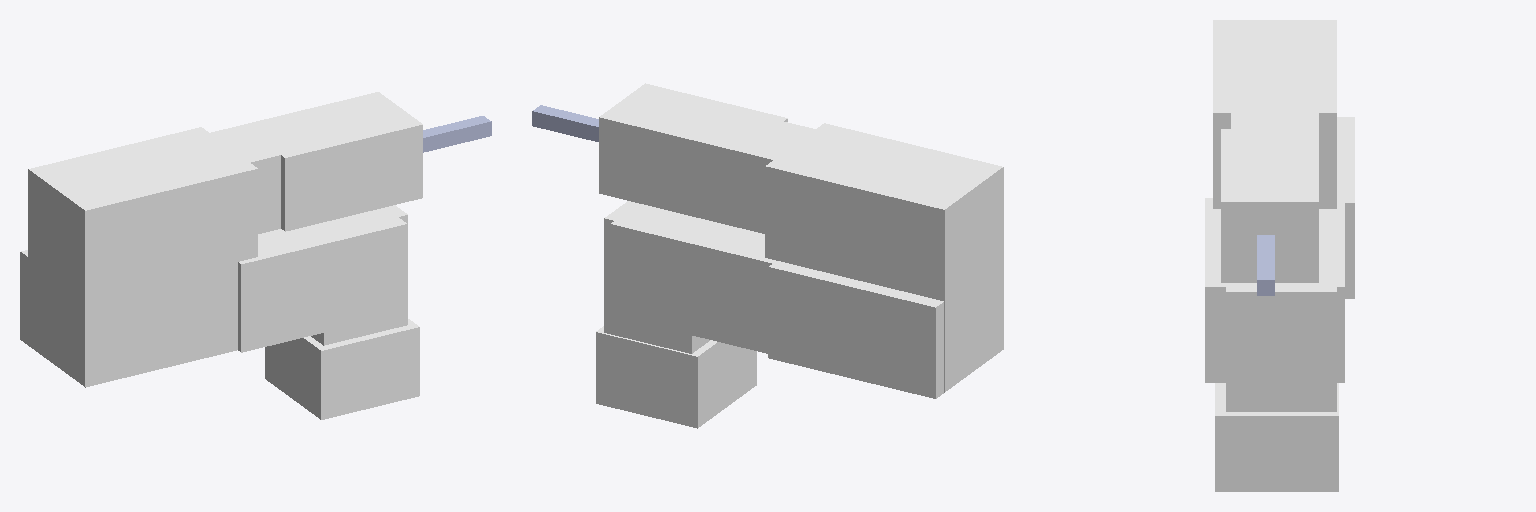
The robot description file, URDF, robot "robot":
<?xml version="1.0" encoding="utf-8"?>
<!-- Joint kinematics and inertials retained; box visuals and convex collision proxies. -->
<robot name="robot">
  <link name="base_link">
    <inertial>
      <origin xyz="0.029953 0.029941 0.02952" rpy="0 0 0" />
      <mass value="0.081607" />
      <inertia ixx="2.1252E-05" ixy="3.7796E-08" ixz="-5.6793E-09" iyy="2.1283E-05" iyz="-5.6183E-09" izz="3.2991E-05" />
    </inertial>
    <visual>
      <origin xyz="0.03 0.03 0.0235" rpy="0 0 0" />
      <geometry>
        <box size="0.07 0.07 0.047" />
      </geometry>
      <material name="">
        <color rgba="1 1 1 1" />
      </material>
    </visual>
    <collision>
      <origin xyz="0.03 0.03 0.0235" rpy="0 0 0" />
      <geometry>
        <mesh filename="./convex/base_link.obj" />
      </geometry>
    </collision>
  </link>
  <link name="Link_1">
    <inertial>
      <origin xyz="-2.9033E-06 -0.00059967 0.03596" rpy="0 0 0" />
      <mass value="0.17103" />
      <inertia ixx="7.1554E-05" ixy="8.9982E-09" ixz="-1.2326E-08" iyy="8.2574E-05" iyz="-6.5424E-06" izz="7.1072E-05" />
    </inertial>
    <visual>
      <origin xyz="0 0.002225 0.035" rpy="0 0 0" />
      <geometry>
        <box size="0.06 0.06255 0.079" />
      </geometry>
      <material name="">
        <color rgba="1 1 1 1" />
      </material>
    </visual>
    <collision>
      <origin xyz="0 0.002225 0.035" rpy="0 0 0" />
      <geometry>
        <mesh filename="./convex/Link_1.obj" />
      </geometry>
    </collision>
  </link>
  <joint name="Joint_01" type="revolute">
    <origin xyz="0.03 0.03 0.0475" rpy="0 0 0" />
    <parent link="base_link" />
    <child link="Link_1" />
    <axis xyz="0 0 -1" />
    <limit lower="-1.57" upper="1.57" effort="10" velocity="10" />
  </joint>
  <link name="Link_2">
    <inertial>
      <origin xyz="-0.058145 0.02764 1.5343E-05" rpy="0 0 0" />
      <mass value="0.19398" />
      <inertia ixx="9.8528E-05" ixy="2.3122E-05" ixz="-9.4261E-07" iyy="0.00015787" iyz="-2.3582E-08" izz="0.00016208" />
    </inertial>
    <visual>
      <origin xyz="-0.036 0.029525 0" rpy="0 0 0" />
      <geometry>
        <box size="0.118 0.07905 0.06" />
      </geometry>
      <material name="">
        <color rgba="1 1 1 1" />
      </material>
    </visual>
    <collision>
      <origin xyz="-0.036 0.029525 0" rpy="0 0 0" />
      <geometry>
        <mesh filename="./convex/Link_2.obj" />
      </geometry>
    </collision>
  </link>
  <joint name="Joint_12" type="revolute">
    <origin xyz="0 -0.03055 0.0445" rpy="0 0 0" />
    <parent link="Link_1" />
    <child link="Link_2" />
    <axis xyz="0 1 0" />
    <limit lower="0" upper="3.1416" effort="10" velocity="10" />
  </joint>
  <link name="Link_3">
    <inertial>
      <origin xyz="-0.060244 0.0078654 -1.8538E-05" rpy="0 0 0" />
      <mass value="0.18531" />
      <inertia ixx="9.1277E-05" ixy="2.8284E-05" ixz="-3.9324E-07" iyy="0.00014778" iyz="9.8189E-09" izz="0.00014721" />
    </inertial>
    <visual>
      <origin xyz="-0.05241783 0.005000001 0" rpy="0 0 0" />
      <geometry>
        <box size="0.1148357 0.08 0.06" />
      </geometry>
      <material name="">
        <color rgba="1 1 1 1" />
      </material>
    </visual>
    <collision>
      <origin xyz="-0.05241783 0.005000001 0" rpy="0 0 0" />
      <geometry>
        <mesh filename="./convex/Link_3.obj" />
      </geometry>
    </collision>
  </link>
  <joint name="Joint_23" type="revolute">
    <origin xyz="-0.0935 0.02925 0" rpy="0 0 0" />
    <parent link="Link_2" />
    <child link="Link_3" />
    <axis xyz="1 0 0" />
    <limit lower="-1.5708" upper="1.5708" effort="10" velocity="10" />
  </joint>
  <link name="Link_4">
    <inertial>
      <origin xyz="0.021744 0.021299 0.051227" rpy="0 0 0" />
      <mass value="0.19649" />
      <inertia ixx="0.00014293" ixy="6.6368E-06" ixz="2.1799E-05" iyy="0.00016548" iyz="-2.609E-05" izz="0.00012537" />
    </inertial>
    <visual>
      <origin xyz="0.03145 0.0255 0.03008217" rpy="0 0 0" />
      <geometry>
        <box size="0.1229 0.07 0.1198357" />
      </geometry>
      <material name="">
        <color rgba="1 1 1 1" />
      </material>
    </visual>
    <collision>
      <origin xyz="0.03145 0.0255 0.03008217" rpy="0 0 0" />
      <geometry>
        <mesh filename="./convex/Link_4.obj" />
      </geometry>
    </collision>
  </link>
  <joint name="Joint_34" type="revolute">
    <origin xyz="-0.08 -0.02555 0" rpy="0 0 0" />
    <parent link="Link_3" />
    <child link="Link_4" />
    <axis xyz="0 1 0" />
    <limit lower="-3.1416" upper="0" effort="10" velocity="10" />
  </joint>
  <link name="Link_5">
    <inertial>
      <origin xyz="0.036396 -0.0040005 -4.1957E-05" rpy="0 0 0" />
      <mass value="0.088959" />
      <inertia ixx="2.3848E-05" ixy="5.3529E-06" ixz="-3.7798E-08" iyy="3.6158E-05" iyz="-5.6005E-09" izz="3.1923E-05" />
    </inertial>
    <visual>
      <origin xyz="0.03494668 0 0" rpy="0 0 0" />
      <geometry>
        <box size="0.06989335 0.05 0.05" />
      </geometry>
      <material name="">
        <color rgba="1 1 1 1" />
      </material>
    </visual>
    <collision>
      <origin xyz="0.03494668 0 0" rpy="0 0 0" />
      <geometry>
        <mesh filename="./convex/Link_5.obj" />
      </geometry>
    </collision>
  </link>
  <joint name="Joint_45" type="revolute">
    <origin xyz="0.0929 0.0255 0.065" rpy="0 0 0" />
    <parent link="Link_4" />
    <child link="Link_5" />
    <axis xyz="1 0 0" />
    <limit lower="-3.1416" upper="3.1416" effort="10" velocity="10" />
  </joint>
  <link name="Link_6">
    <inertial>
      <origin xyz="0.048768 -0.017783 -4.337E-05" rpy="0 0 0" />
      <mass value="0.086021" />
      <inertia ixx="2.8231E-05" ixy="7.1812E-06" ixz="-5.652E-09" iyy="4.5297E-05" iyz="3.7802E-08" izz="4.5564E-05" />
    </inertial>
    <visual>
      <origin xyz="0.026 -0.0225 0" rpy="0 0 0" />
      <geometry>
        <box size="0.098 0.055 0.05" />
      </geometry>
      <material name="">
        <color rgba="1 1 1 1" />
      </material>
    </visual>
    <collision>
      <origin xyz="0.026 -0.0225 0" rpy="0 0 0" />
      <geometry>
        <mesh filename="./convex/Link_6.obj" />
      </geometry>
    </collision>
  </link>
  <joint name="Joint_56" type="revolute">
    <origin xyz="0.045 0.0199 0" rpy="0 0 0" />
    <parent link="Link_5" />
    <child link="Link_6" />
    <axis xyz="0 1 0" />
    <limit lower="-2.0944" upper="2.0944" effort="10" velocity="10" />
  </joint>
  <link name="Link_7">
    <inertial>
      <origin xyz="0.0325 -0.0002483 -0.0002483" rpy="0 0 0" />
      <mass value="0.0050343" />
      <inertia ixx="6.8558E-08" ixy="-1.2772E-21" ixz="3.9024E-22" iyy="1.5446E-06" iyz="-4.3771E-09" izz="1.5446E-06" />
    </inertial>
    <visual>
      <origin xyz="0.0325 -1.571933e-05 -1.571933e-05" rpy="0 0 0" />
      <geometry>
        <box size="0.06 0.009968562 0.009968561" />
      </geometry>
      <material name="">
        <color rgba="0.79216 0.81961 0.93333 1" />
      </material>
    </visual>
    <collision>
      <origin xyz="0.0325 -1.571933e-05 -1.571933e-05" rpy="0 0 0" />
      <geometry>
        <mesh filename="./convex/Link_7.obj" />
      </geometry>
    </collision>
  </link>
  <joint name="Joint_67" type="revolute">
    <origin xyz="0.0725 -0.025 0" rpy="0 0 0" />
    <parent link="Link_6" />
    <child link="Link_7" />
    <axis xyz="1 0 0" />
    <limit lower="-3.1416" upper="3.1416" effort="10" velocity="10" />
  </joint>
</robot>

--- What the picture shows (computed from the rendered views, not written in the file) ---
Views: 3 orthographic renders of the robot side by side, from view 1: azimuth 30°, elevation 25°; view 2: azimuth 150°, elevation 25°; view 3: azimuth 270°, elevation 25°.
Robot: robot — 8 links, 7 joints (7 revolute); root link base_link; default pose: every joint at zero.
Links seen in each view (by area): view 1: Link_4, Link_2, Link_6, base_link, Link_5, Link_1, Link_7, Link_3; view 2: Link_4, Link_3, Link_2, base_link, Link_6, Link_5, Link_1, Link_7; view 3: Link_1, Link_4, Link_6, base_link, Link_2, Link_5, Link_3, Link_7.
Boxes of the visible links, x1,y1,x2,y2 form: Link_4: (28,127,257,386); Link_2: (238,208,407,352); Link_6: (263,92,422,231); base_link: (265,319,419,419); Link_5: (210,109,346,233); Link_1: (311,205,407,345); Link_7: (423,116,491,152); Link_3: (20,250,236,387); Link_4: (765,123,1003,392); Link_3: (768,263,991,398); Link_2: (610,221,785,353); base_link: (596,326,756,428); Link_6: (599,83,787,210); Link_5: (672,105,815,233); Link_1: (604,201,714,353); Link_7: (532,105,598,141); Link_1: (1226,247,1336,411); Link_4: (1213,20,1336,208); Link_6: (1221,129,1318,282); base_link: (1215,383,1338,491); Link_2: (1205,198,1344,382); Link_5: (1231,113,1318,164); Link_3: (1337,117,1354,298); Link_7: (1257,235,1274,295).
Size in the robot's own frame: 0.3029 by 0.0843 by 0.182 metres.
Geometry: primitives only (box / cylinder / sphere), no mesh files.
